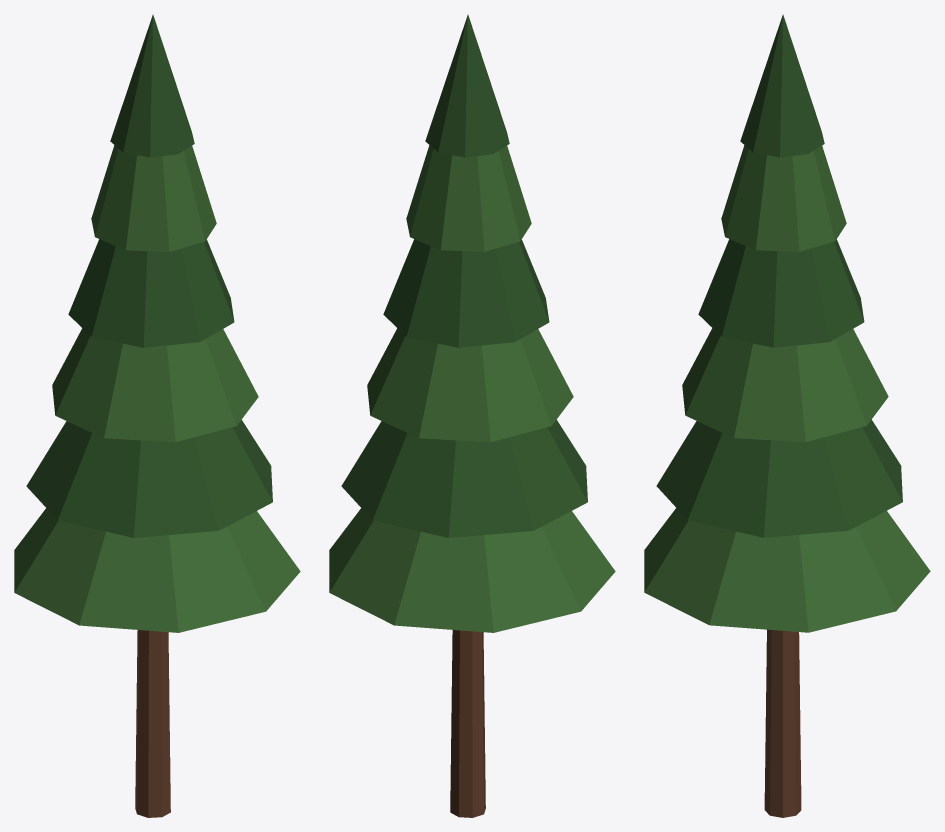
The model's file is tree_pine_small.glb.
The picture shows the model from 3 angles, left to right: view 1: azimuth 30°, elevation 25°; view 2: azimuth 150°, elevation 25°; view 3: azimuth 270°, elevation 25°; orthographic projection.
Visible parts, largest first — view 1: tree_pine_small; view 2: tree_pine_small; view 3: tree_pine_small.
Boxes of the visible parts, x1,y1,x2,y2 form: tree_pine_small: (14,14,300,817); tree_pine_small: (329,14,615,817); tree_pine_small: (644,14,930,817).
Bounding box in the file's own units: 1.49 × 4.5 × 1.47.
